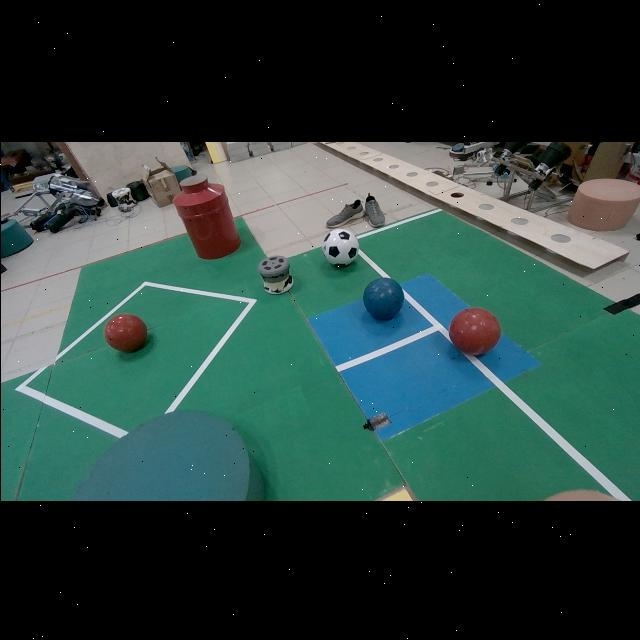B: (363, 275, 404, 318)
R: (449, 306, 501, 353), (103, 311, 147, 351)
